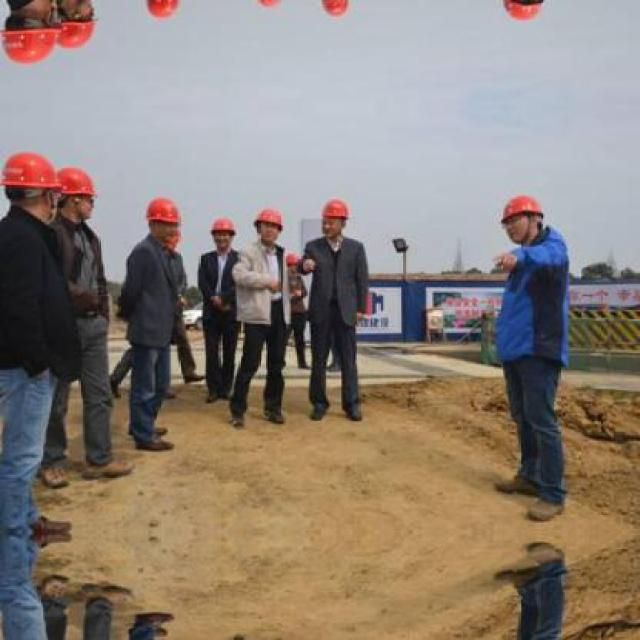helmet: (1, 146, 61, 223), (0, 0, 62, 71), (497, 190, 549, 243), (56, 166, 98, 224), (56, 0, 98, 51), (144, 196, 182, 250), (318, 195, 353, 241), (250, 205, 284, 247), (497, 0, 551, 26), (208, 213, 238, 250), (317, 0, 354, 22), (143, 0, 183, 20), (283, 252, 302, 274), (251, 0, 286, 11)
